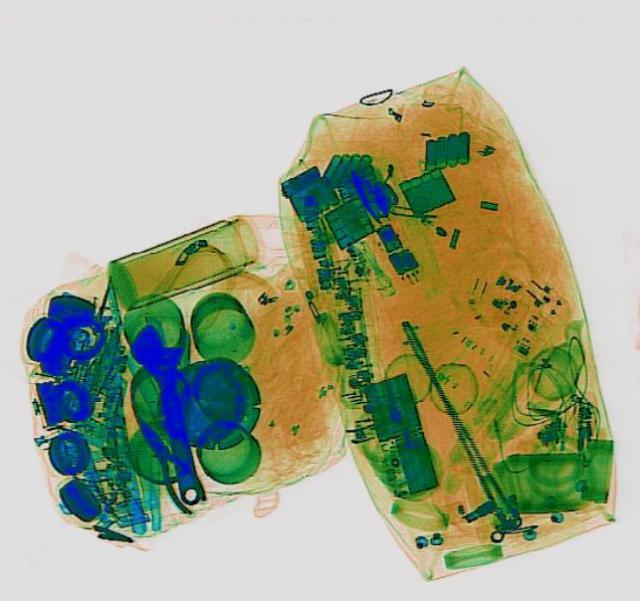Pliers: (122, 414, 214, 517)
Wrench: (122, 317, 214, 506)
